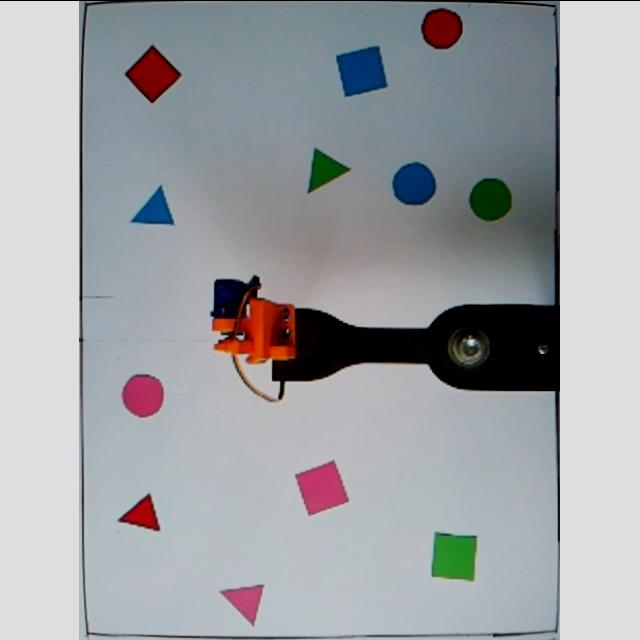blueCircle: (392, 160, 442, 208)
blueSquare: (336, 44, 392, 100)
blueTriangle: (130, 183, 180, 227)
greenCircle: (468, 176, 516, 224)
greenSquare: (428, 529, 482, 581)
greenTriangle: (304, 146, 354, 194)
pinkCircle: (122, 370, 168, 418)
pinkSquare: (293, 458, 351, 516)
pinkTriangle: (220, 582, 266, 628)
redCircle: (419, 6, 467, 50)
redSquare: (124, 44, 186, 106)
redTriangle: (116, 491, 166, 535)
